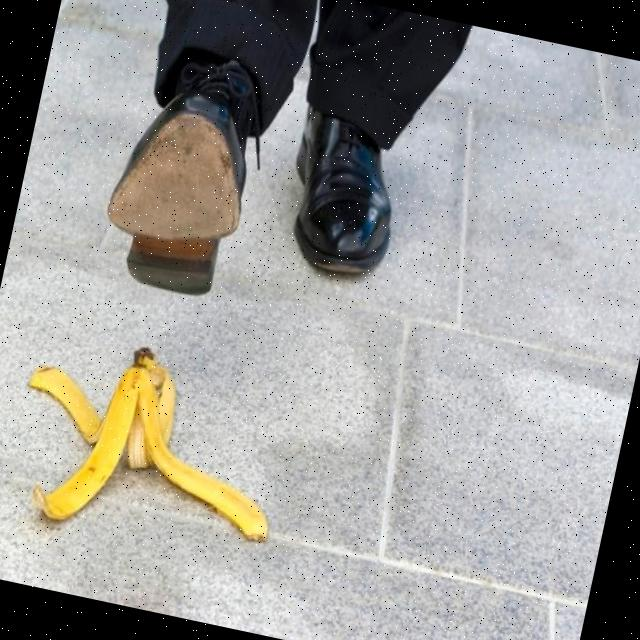banana-peel: (0, 323, 300, 564)
